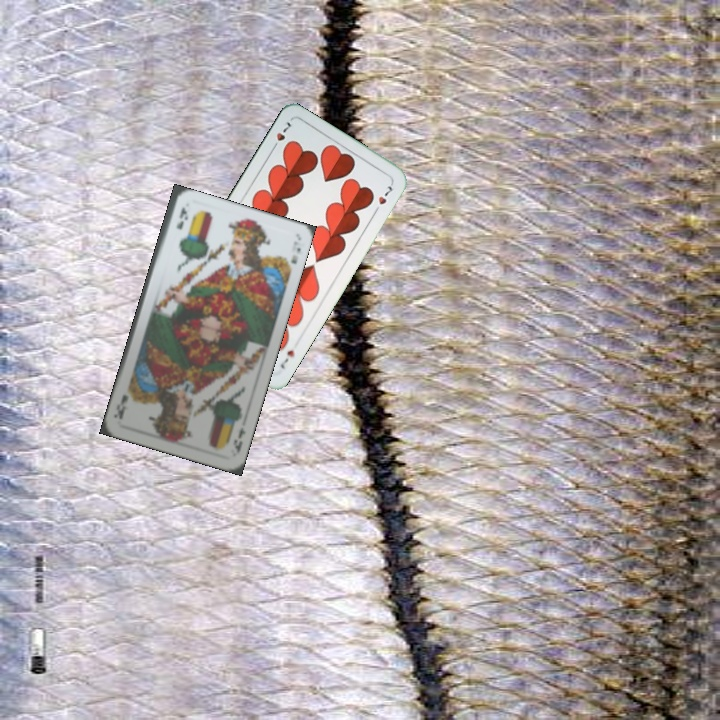EK: (229, 423, 248, 457), (172, 203, 190, 232)
H7: (267, 118, 294, 153), (276, 346, 297, 372)
